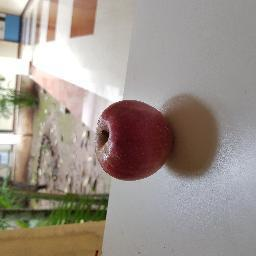Good_apple: (96, 97, 175, 183)
